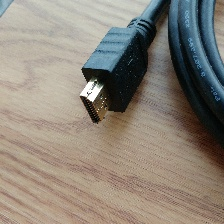hdmi_male: (60, 13, 186, 128), (46, 78, 128, 144), (116, 170, 167, 222)
